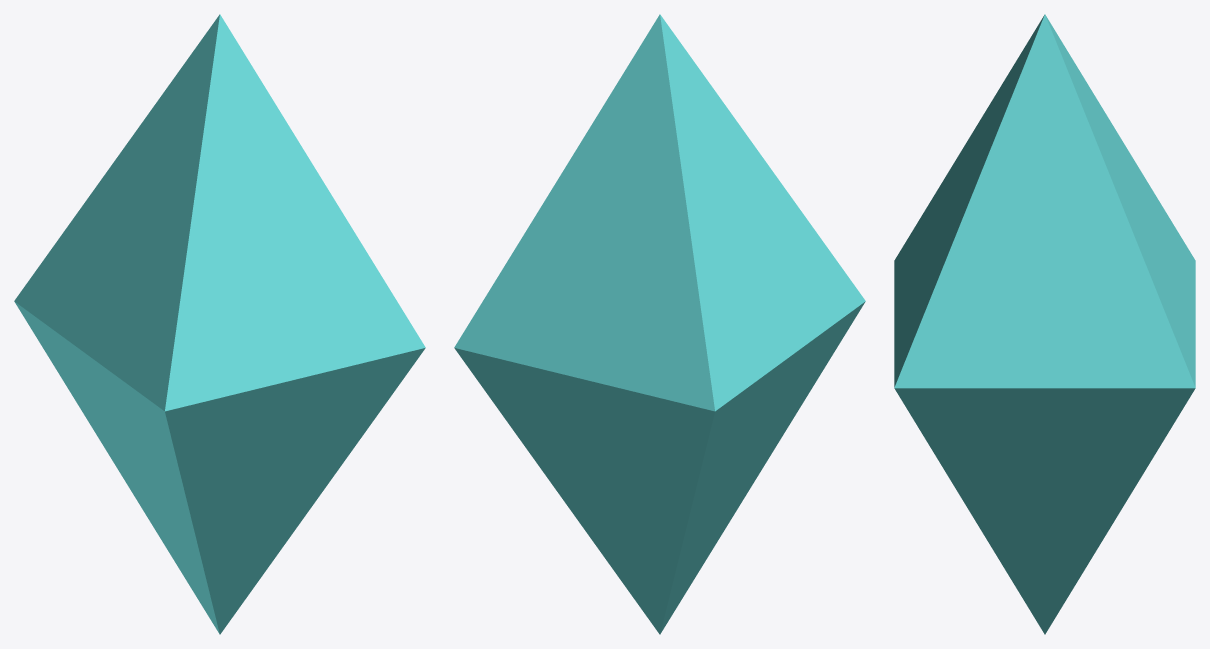
Rendered from diamond.fbx.
3 renders of one model, left to right at view 1: azimuth 30°, elevation 25°; view 2: azimuth 150°, elevation 25°; view 3: azimuth 270°, elevation 25°, orthographic.
Parts seen in each view (by area): view 1: Cube.006; view 2: Cube.006; view 3: Cube.006.
Part boxes in pixels (x1,y1,x2,y2): Cube.006: (14, 14, 425, 634); Cube.006: (454, 14, 865, 634); Cube.006: (894, 14, 1195, 634).
Size of the model in its own units: 0.5003 by 1.14 by 0.5003.
